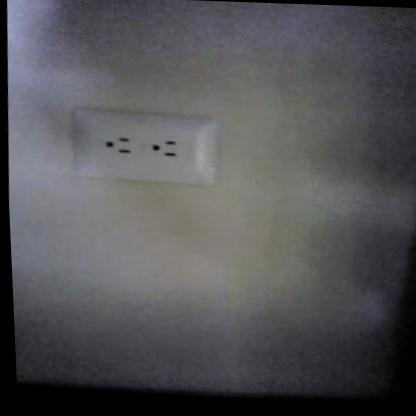OUTLET: (68, 109, 223, 182)
